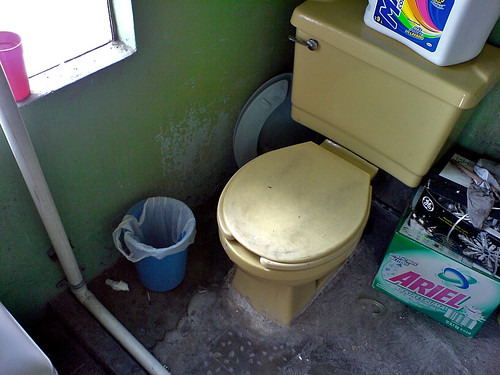toilet: (202, 1, 495, 327)
trash: (361, 156, 500, 329)
trash can: (117, 187, 198, 293)
